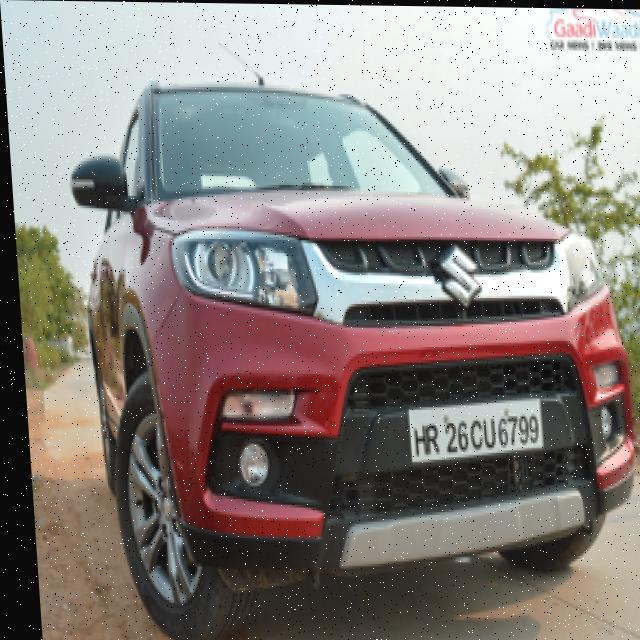plate: (397, 393, 540, 463)
